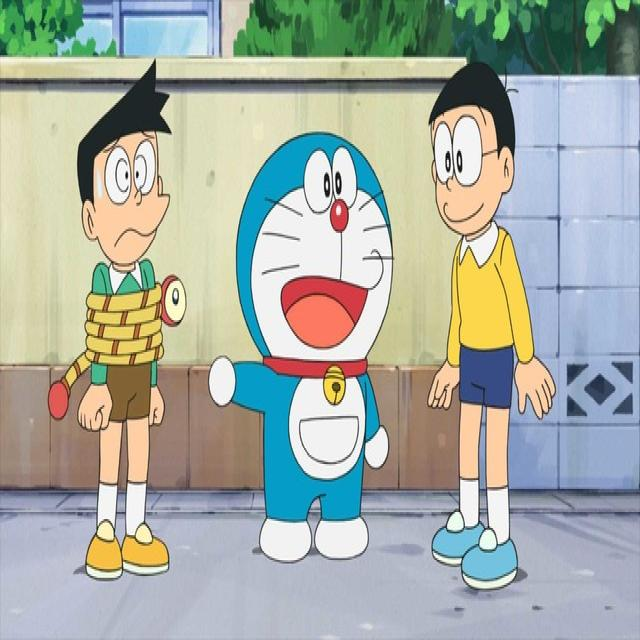doraemon: (212, 116, 412, 427)
nobita: (415, 37, 540, 290)
suneo: (64, 48, 188, 318)
